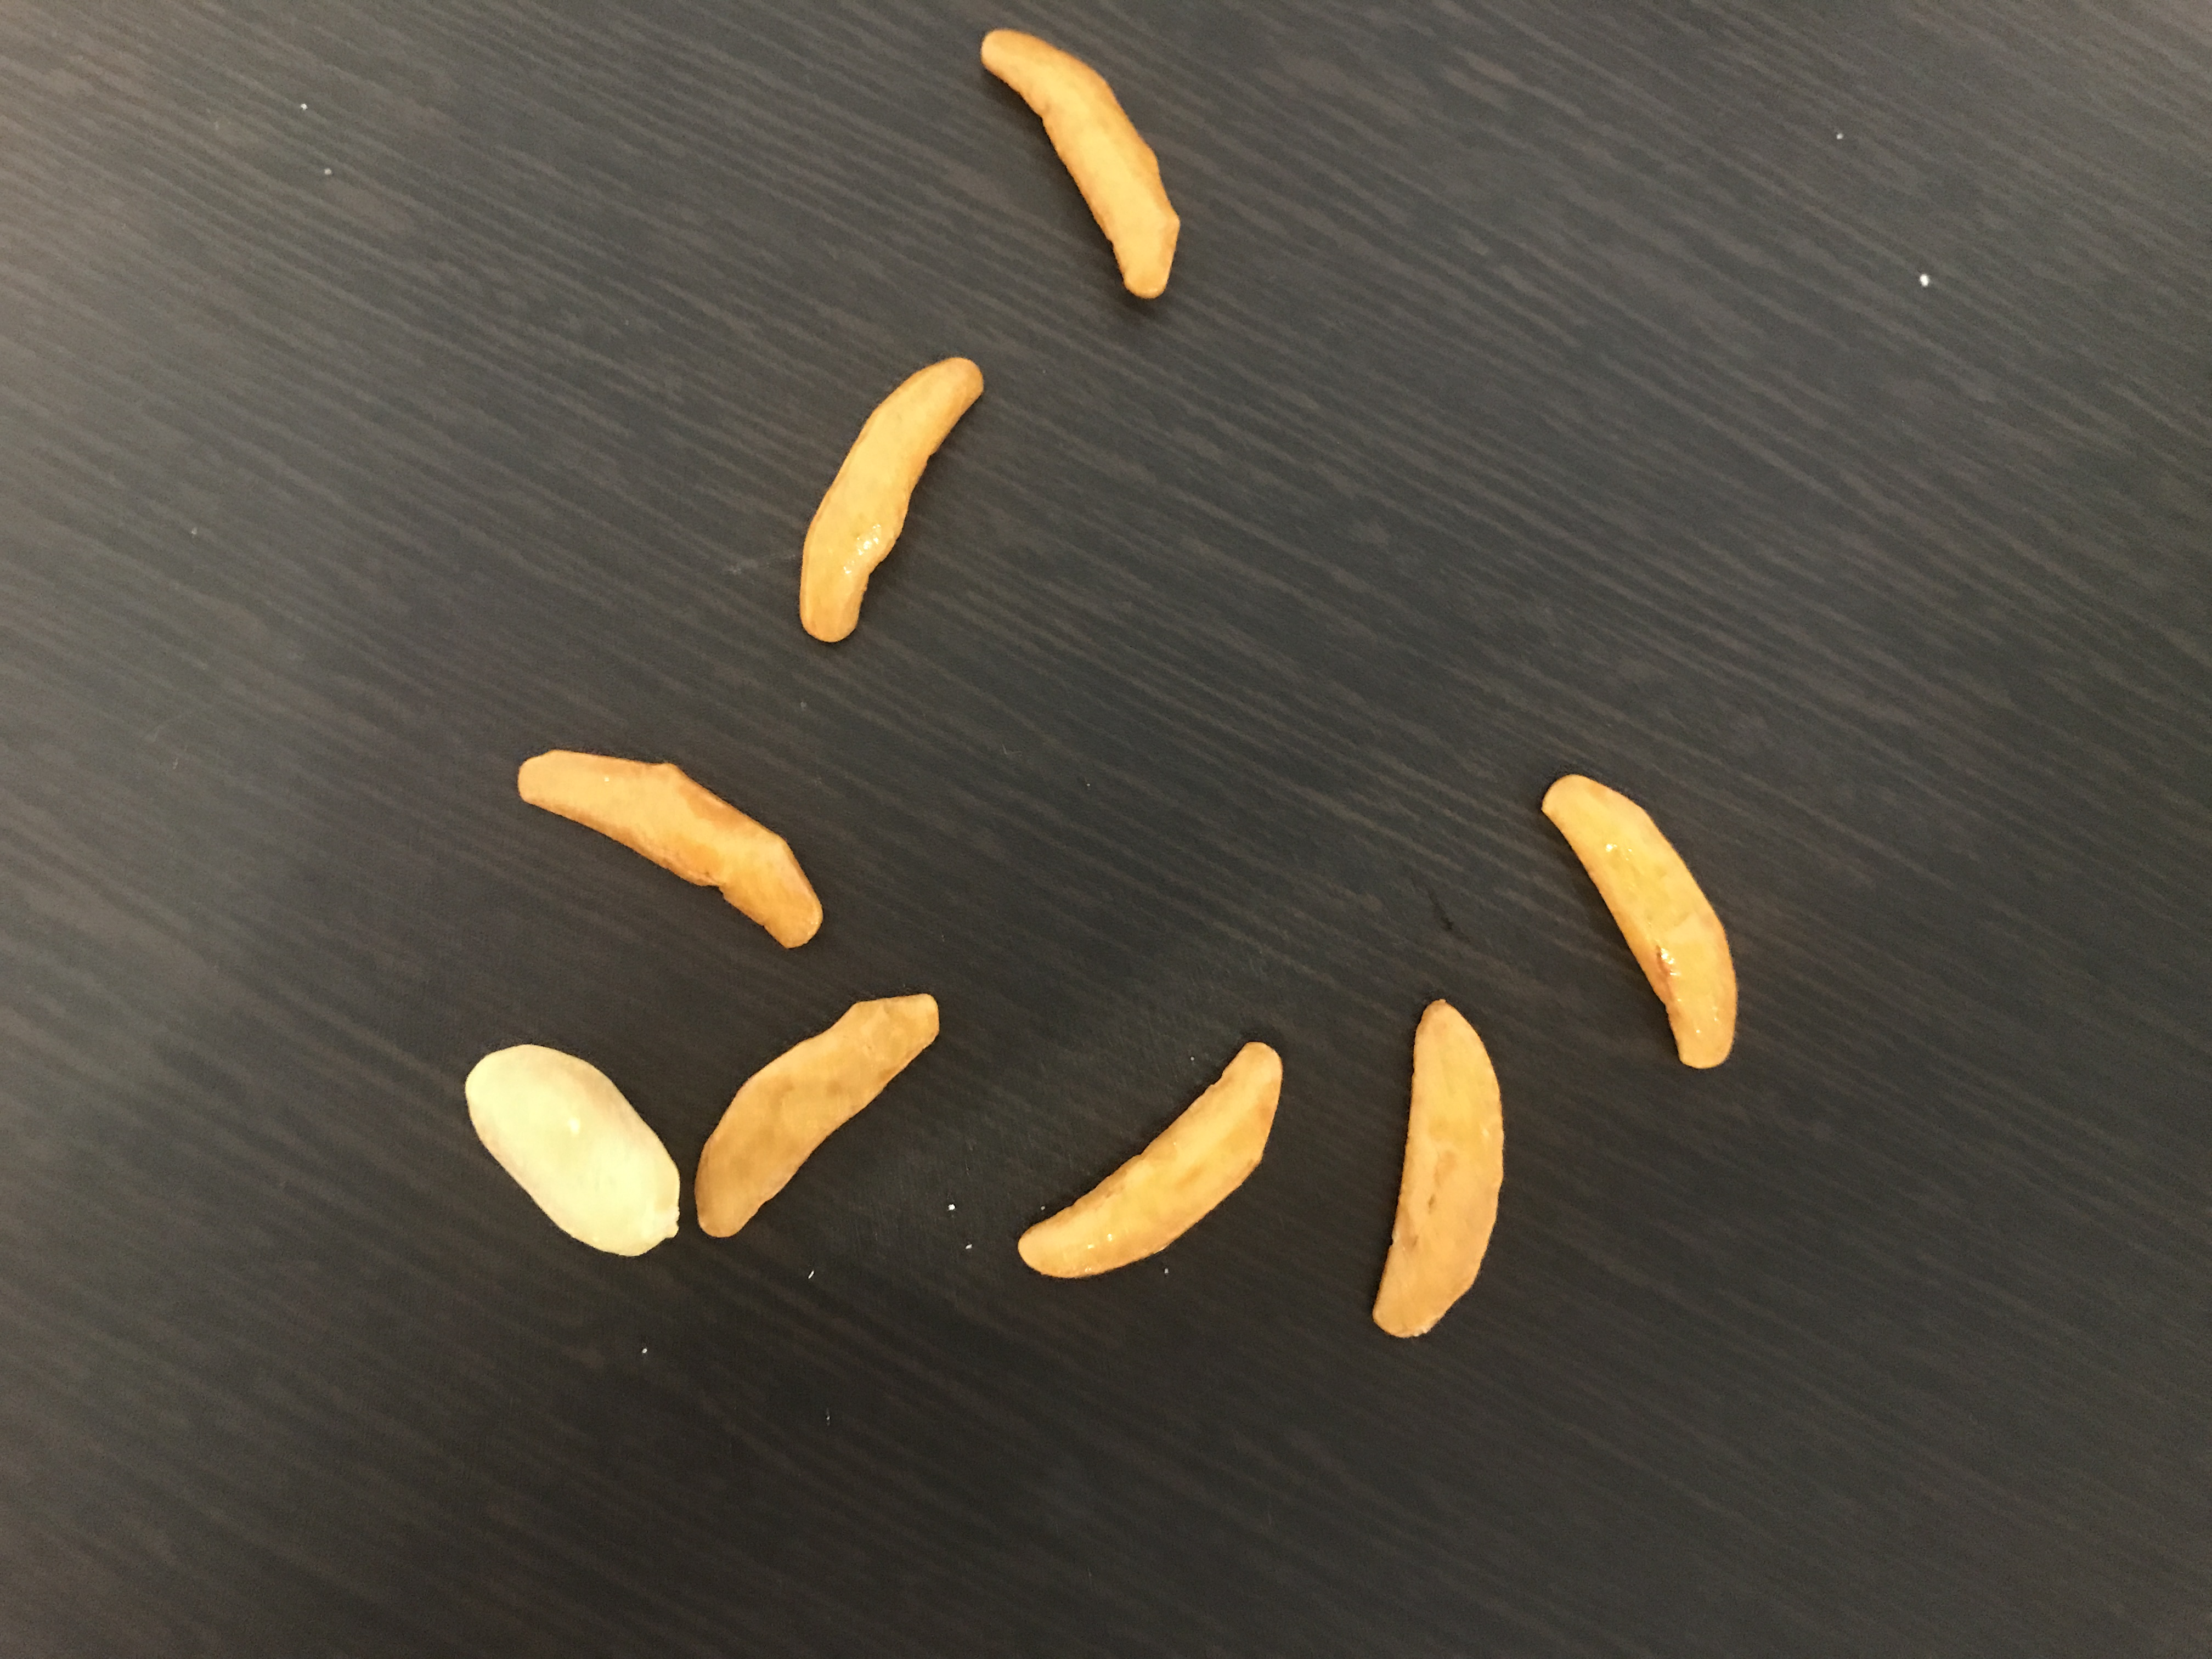peanut: (462, 1033, 690, 1272)
